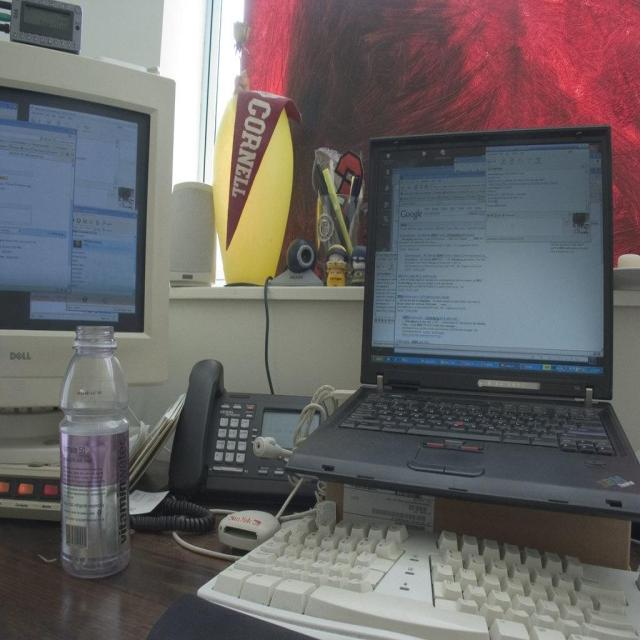bottle: (55, 327, 135, 580)
laptop: (296, 127, 640, 500)
